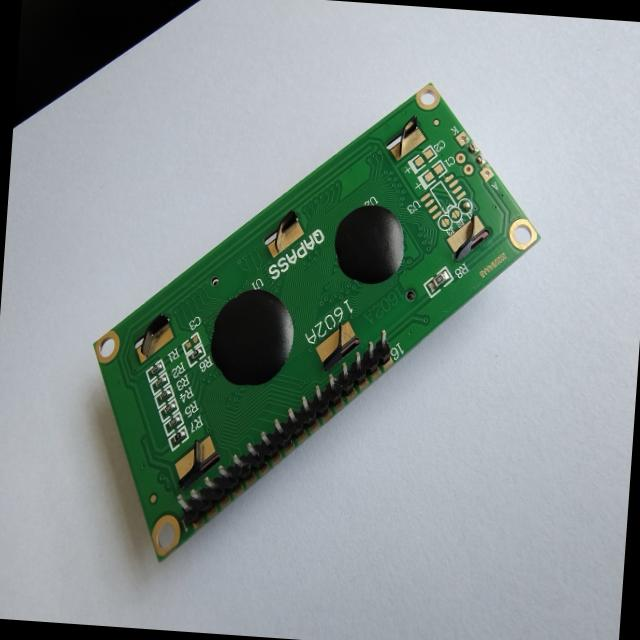lcd: (77, 58, 551, 588)
